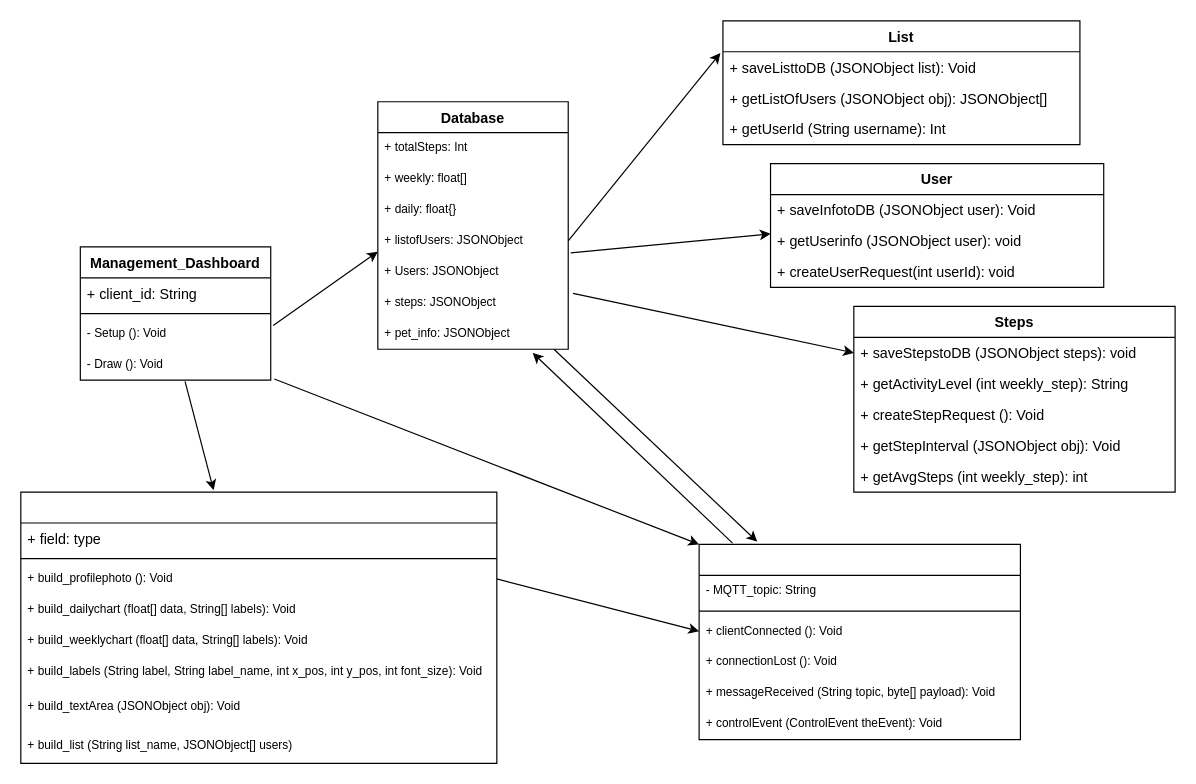
Image size: 1196x784. Some labels were removed from this diagram. The shapes that lost their labels are listed below. From the top down, each one's box as (x1, y1, x2, y2) in pixels, then its label:
(20, 491, 497, 763): View
(698, 543, 1020, 740): Events
